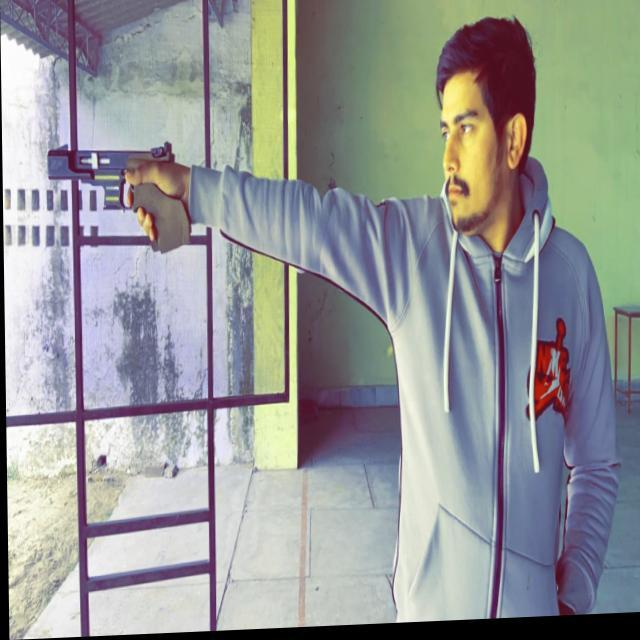weapon: (44, 133, 198, 270)
